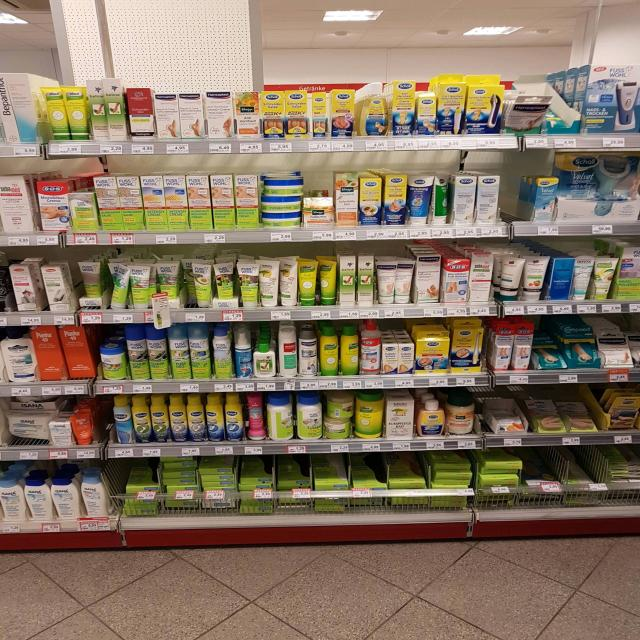void: (503, 161, 533, 236)
